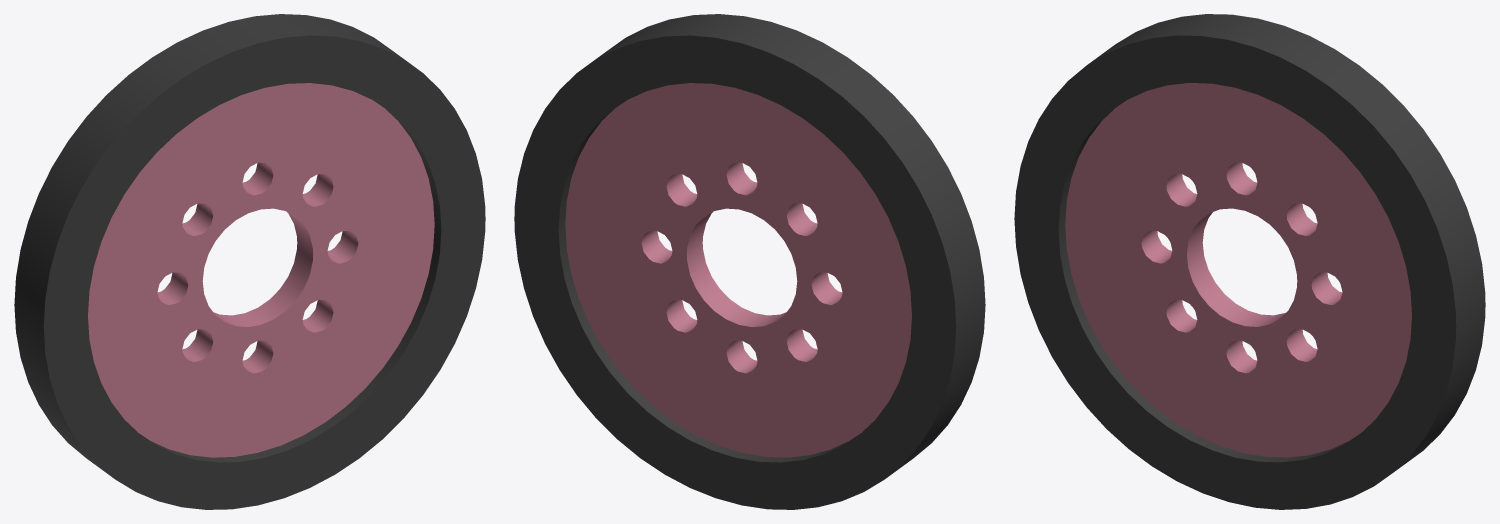
File: ROB-12145.obj
The picture shows the model from 3 angles, left to right: view 1: azimuth 30°, elevation 25°; view 2: azimuth 150°, elevation 25°; view 3: azimuth 330°, elevation 25°; orthographic projection.
Visible parts, largest first — view 1: mesh 2 Boss-Extrude1, mesh 1 RO; view 2: mesh 2 Boss-Extrude1, mesh 1 RO; view 3: mesh 2 Boss-Extrude1, mesh 1 RO.
Part boxes in pixels (left/top/right/bottom): mesh 2 Boss-Extrude1: left=88, top=83, right=434, bottom=457; mesh 1 RO: left=14, top=14, right=485, bottom=509; mesh 2 Boss-Extrude1: left=565, top=83, right=911, bottom=457; mesh 1 RO: left=514, top=14, right=985, bottom=509; mesh 2 Boss-Extrude1: left=1065, top=83, right=1411, bottom=457; mesh 1 RO: left=1014, top=14, right=1485, bottom=509.
Size of the model in its own units: 0.0508 by 0.0508 by 0.00584.
